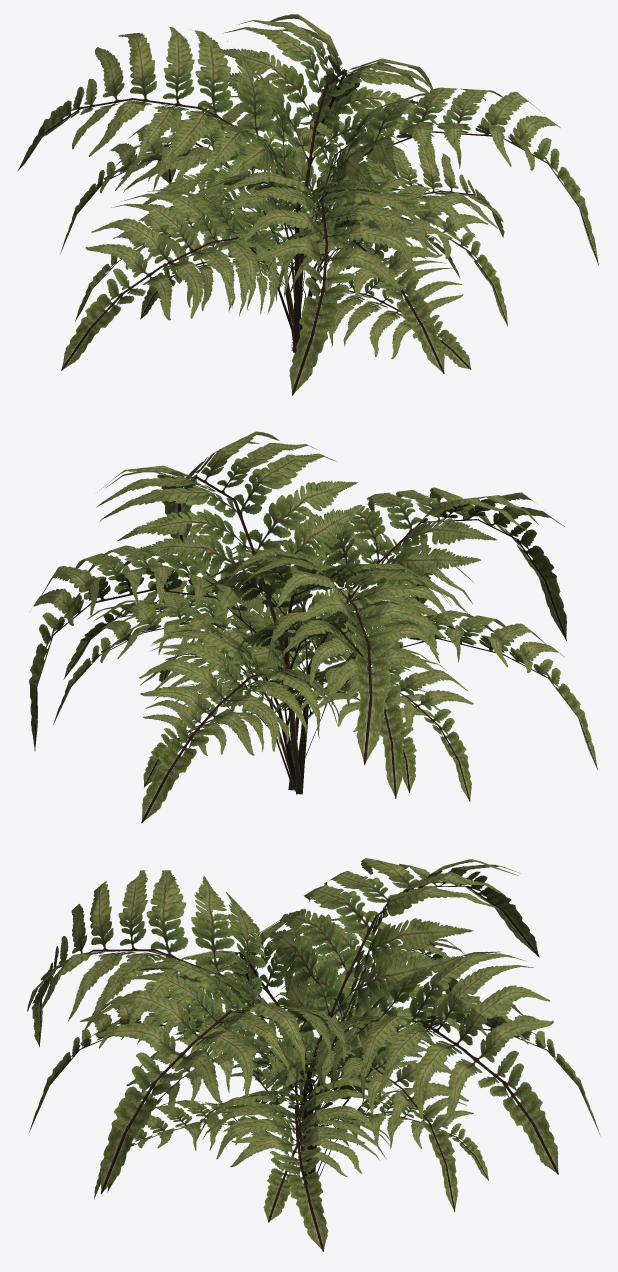
The model's file is arbusto.obj.
The picture shows the model from 3 angles, top to bottom: view 1: azimuth 30°, elevation 25°; view 2: azimuth 150°, elevation 25°; view 3: azimuth 270°, elevation 25°; orthographic projection. The views are drawn at different scales.
Visible parts, largest first — view 1: bush2:Mesh; view 2: bush2:Mesh; view 3: bush2:Mesh.
Part boxes in pixels (x1=…): bush2:Mesh: x1=17, y1=14, x2=598, y2=395; bush2:Mesh: x1=29, y1=431, x2=597, y2=823; bush2:Mesh: x1=27, y1=858, x2=600, y2=1251.
Size of the model in its own units: 3.88 by 2.1 by 3.67.
